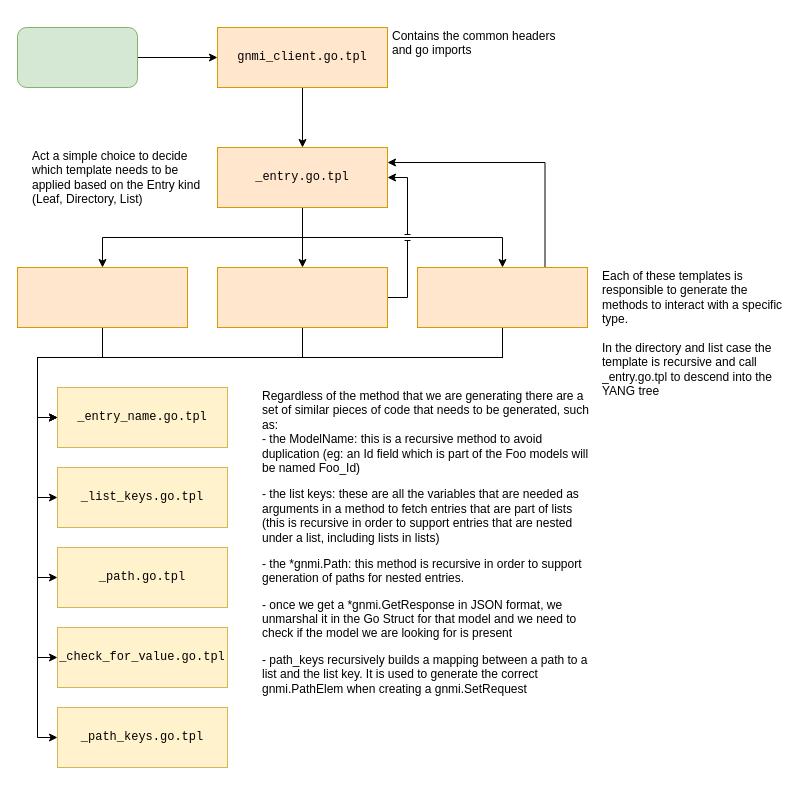
Image size: 805x785. Some labels were removed from this diagram. The centre of each missing label's shape, as x and y in pixels:
*yang.Entry: pixel 77 57
_directory.go.tpl: pixel 302 297
_leaf.go.tpl: pixel 102 297
_list.go.tpl: pixel 502 297
